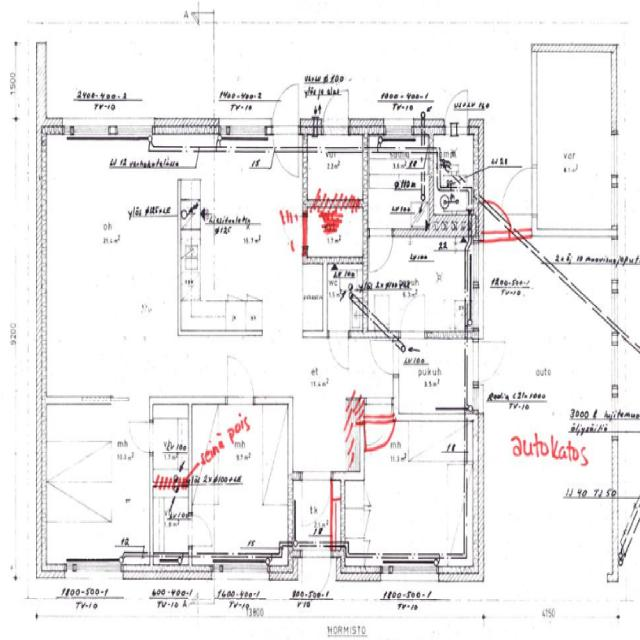door: (270, 80, 302, 161), (499, 164, 535, 229), (298, 546, 334, 599), (222, 352, 255, 409), (318, 89, 351, 139), (397, 292, 428, 342), (366, 226, 396, 276), (272, 131, 302, 181), (475, 336, 507, 381), (368, 336, 396, 378), (363, 416, 394, 453), (126, 417, 154, 457), (444, 84, 471, 125), (326, 329, 351, 373), (188, 511, 215, 551)
window: (377, 550, 442, 584), (217, 551, 272, 578), (218, 121, 273, 147), (62, 558, 122, 576), (608, 177, 621, 231), (382, 122, 416, 142), (608, 128, 621, 180), (609, 338, 621, 391), (156, 552, 183, 574)
zone: (42, 144, 184, 408), (181, 145, 303, 326), (348, 419, 470, 572), (482, 283, 614, 416), (192, 402, 290, 561), (534, 46, 615, 233), (374, 227, 466, 336), (366, 135, 432, 231), (394, 336, 468, 416), (303, 138, 366, 208), (304, 203, 364, 262), (433, 131, 478, 205), (151, 402, 190, 487), (292, 474, 334, 547), (151, 488, 190, 561), (430, 186, 472, 241)
